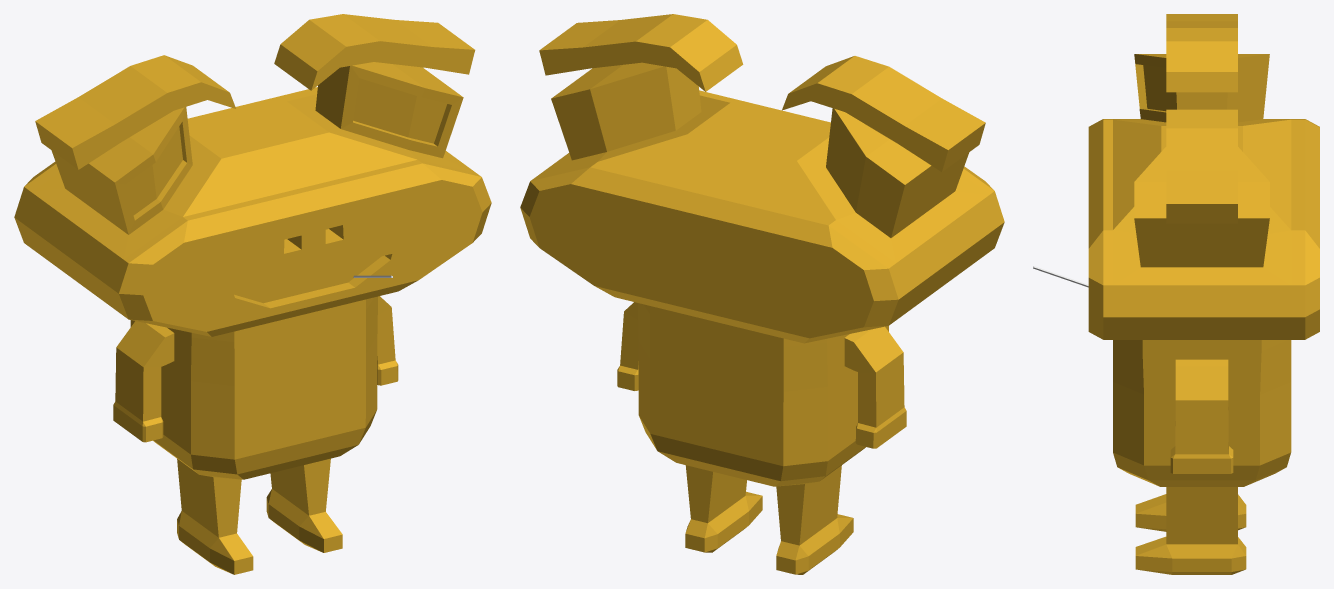
Rendered from Sapo_prueba.fbx.
3 views of the same model, side by side, from view 1: azimuth 30°, elevation 25°; view 2: azimuth 150°, elevation 25°; view 3: azimuth 270°, elevation 25° (orthographic). The views are drawn at different scales.
Visible parts, largest first — view 1: Cube; view 2: Cube; view 3: Cube.
Boxes of the visible parts, x1,y1,x2,y2 form: Cube: (14, 14, 491, 574); Cube: (520, 14, 1004, 574); Cube: (1088, 14, 1319, 574).
Bounding box in the file's own units: 346 × 403 × 221.
